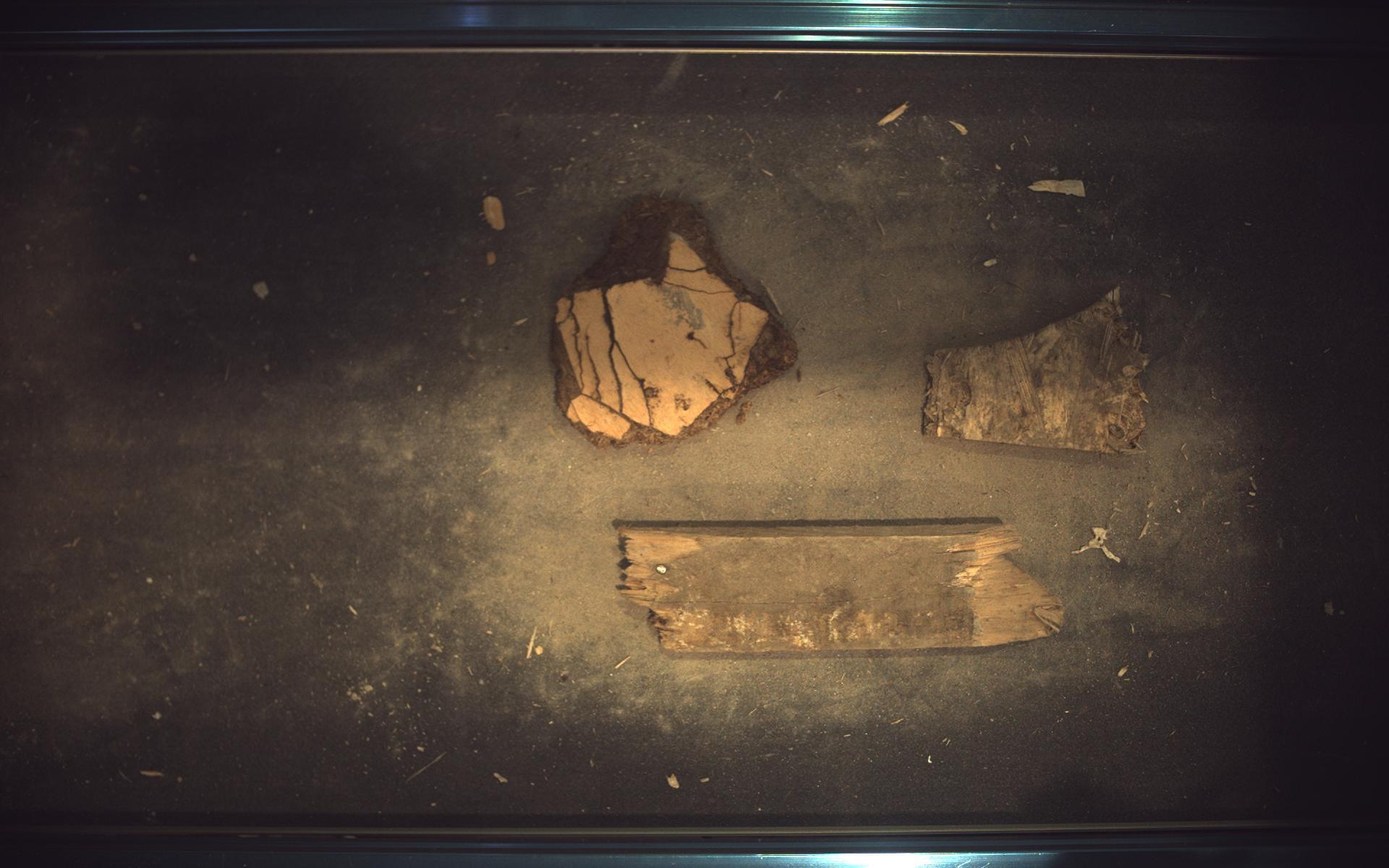wood: (552, 195, 799, 446), (616, 519, 1066, 655), (925, 287, 1151, 454)
